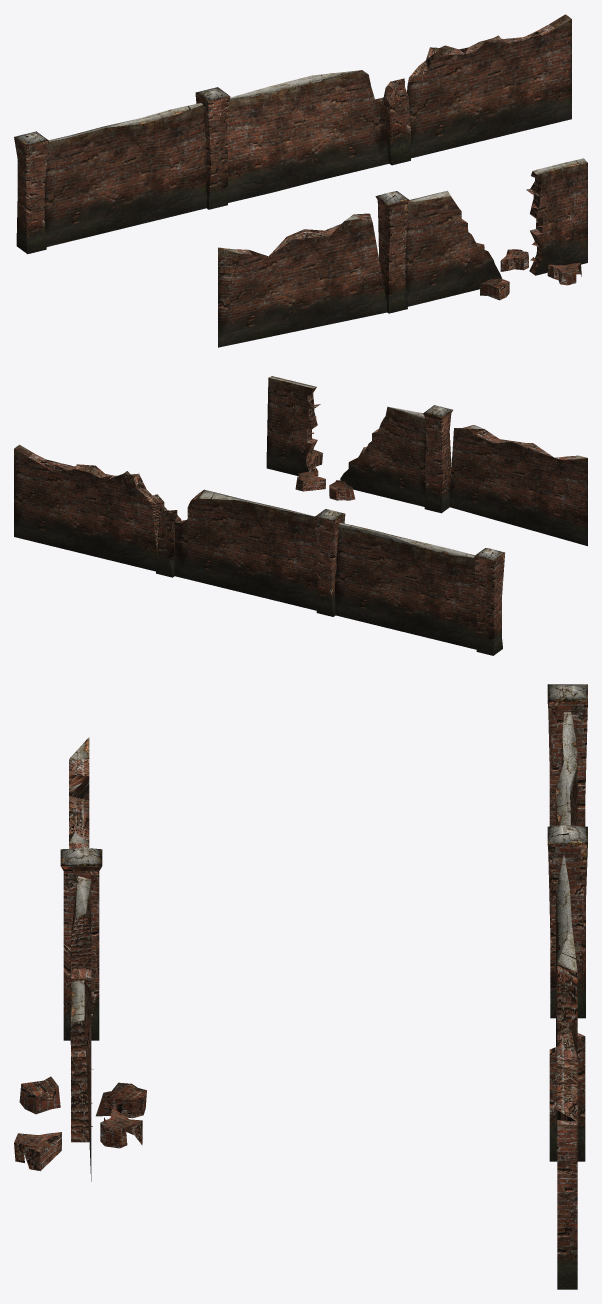
File: brick walls.FBX
3 views of the same model, one above another, from view 1: azimuth 30°, elevation 25°; view 2: azimuth 150°, elevation 25°; view 3: azimuth 270°, elevation 25° (orthographic). The views are drawn at different scales.
Visible parts, largest first — view 1: Wall08, Wall13, Wall07, Wall09, Wall10, Wall12, Stolb08, Stolb10; view 2: Wall08, Wall13, Wall07, Wall09, Wall10, Wall12, Stolb08, Stolb10; view 3: Wall10, Wall12, Wall07, Wall08, Stolb10, Stolb08, Wall09, Wall13.
Boxes of the visible parts, bbox=[...] form: Wall08: bbox=[226, 70, 410, 202]; Wall13: bbox=[44, 103, 206, 246]; Wall07: bbox=[407, 14, 571, 158]; Wall09: bbox=[218, 213, 387, 347]; Wall10: bbox=[375, 190, 509, 313]; Wall12: bbox=[500, 158, 587, 285]; Stolb08: bbox=[14, 131, 48, 254]; Stolb10: bbox=[195, 87, 230, 209]; Wall08: bbox=[156, 489, 317, 610]; Wall13: bbox=[334, 522, 476, 649]; Wall07: bbox=[14, 444, 164, 571]; Wall09: bbox=[449, 425, 587, 546]; Wall10: bbox=[329, 405, 452, 513]; Wall12: bbox=[266, 376, 325, 491]; Stolb08: bbox=[474, 548, 504, 655]; Stolb10: bbox=[314, 509, 345, 616]; Wall10: bbox=[19, 848, 146, 1118]; Wall12: bbox=[14, 980, 142, 1181]; Wall07: bbox=[557, 1022, 577, 1289]; Wall08: bbox=[549, 854, 585, 1161]; Stolb10: bbox=[547, 825, 587, 1018]; Stolb08: bbox=[547, 684, 587, 826]; Wall09: bbox=[69, 737, 89, 848]; Wall13: bbox=[555, 712, 577, 825].
Size of the model in its own units: 2003 by 402 by 1130.
